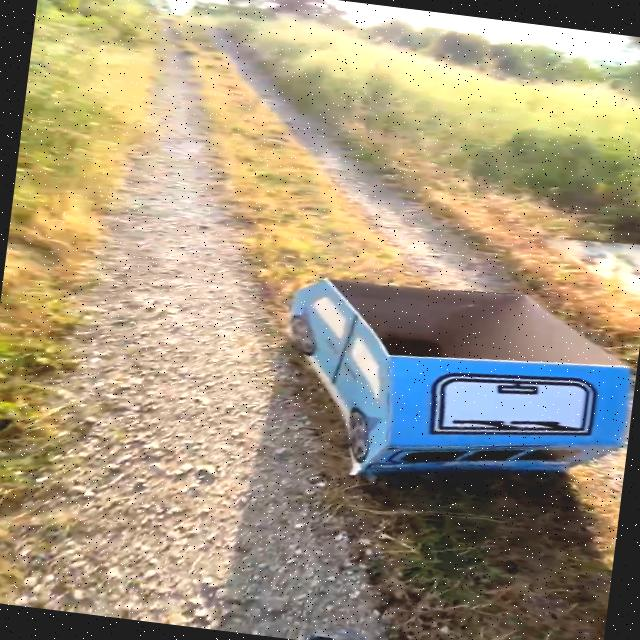blue_car: (207, 231, 640, 525)
